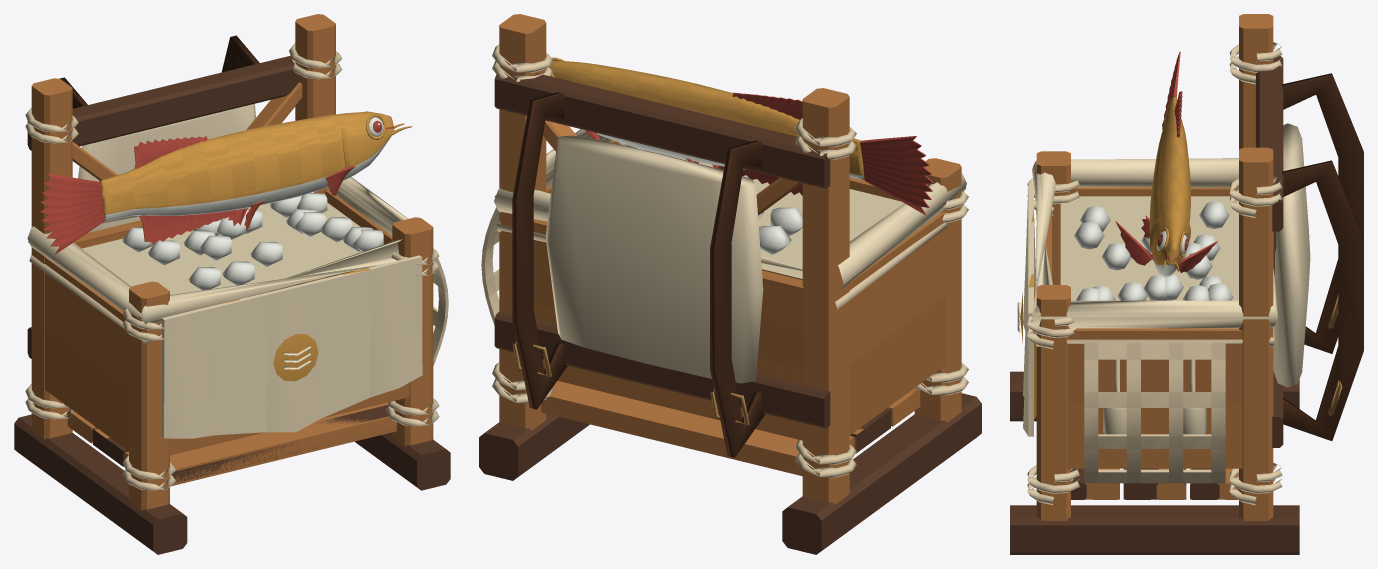
File: prop_trade_pack_arowana_a.glb
The picture shows the model from 3 angles, left to right: view 1: azimuth 30°, elevation 25°; view 2: azimuth 150°, elevation 25°; view 3: azimuth 270°, elevation 25°; orthographic projection. The views are drawn at different scales.
Parts seen in each view (by area): view 1: prop_trade_pack_arowana_a_carrier_1, prop_trade_pack_arowana_a_carrier_0, prop_trade_pack_arowana_a_catch_0, prop_trade_pack_arowana_a_catch_1; view 2: prop_trade_pack_arowana_a_carrier_0, prop_trade_pack_arowana_a_carrier_1, prop_trade_pack_arowana_a_catch_0, prop_trade_pack_arowana_a_catch_1; view 3: prop_trade_pack_arowana_a_carrier_0, prop_trade_pack_arowana_a_carrier_1, prop_trade_pack_arowana_a_catch_0, prop_trade_pack_arowana_a_catch_1.
Boxes of the visible parts, x1,y1,x2,y2 form: prop_trade_pack_arowana_a_carrier_1: [14, 14, 448, 552]; prop_trade_pack_arowana_a_carrier_0: [16, 14, 450, 554]; prop_trade_pack_arowana_a_catch_0: [40, 111, 411, 254]; prop_trade_pack_arowana_a_catch_1: [101, 116, 394, 219]; prop_trade_pack_arowana_a_carrier_0: [479, 14, 979, 554]; prop_trade_pack_arowana_a_carrier_1: [479, 14, 981, 550]; prop_trade_pack_arowana_a_catch_0: [549, 57, 933, 215]; prop_trade_pack_arowana_a_catch_1: [550, 68, 863, 179]; prop_trade_pack_arowana_a_carrier_0: [1010, 14, 1363, 552]; prop_trade_pack_arowana_a_carrier_1: [1010, 15, 1363, 554]; prop_trade_pack_arowana_a_catch_0: [1115, 51, 1217, 276]; prop_trade_pack_arowana_a_catch_1: [1149, 98, 1190, 274].
Size of the model in its own units: 0.9749 by 0.96 by 0.7816.
